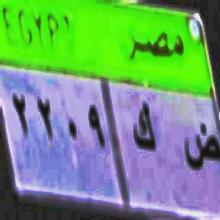0: (67, 110, 84, 151)
2: (36, 90, 57, 143), (13, 87, 32, 140)
9: (84, 100, 106, 162)
daad: (184, 114, 220, 186)
kaaf: (130, 98, 160, 156)
